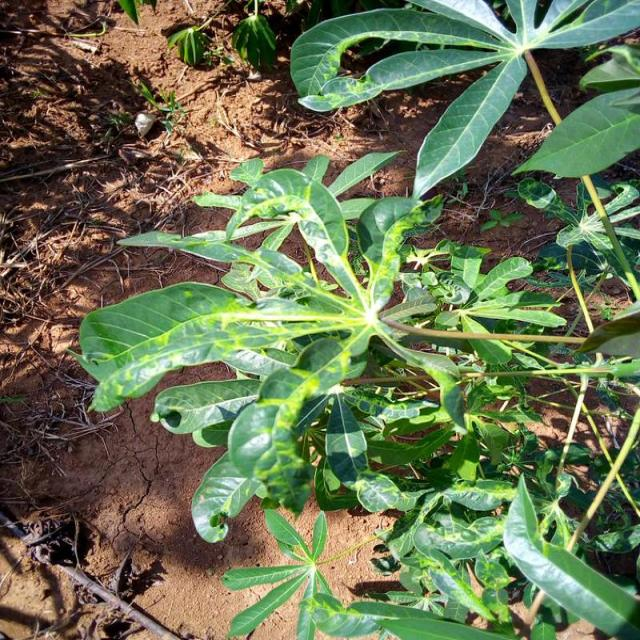cassava leaf: (66, 149, 564, 544), (289, 0, 638, 202), (502, 471, 638, 638)
